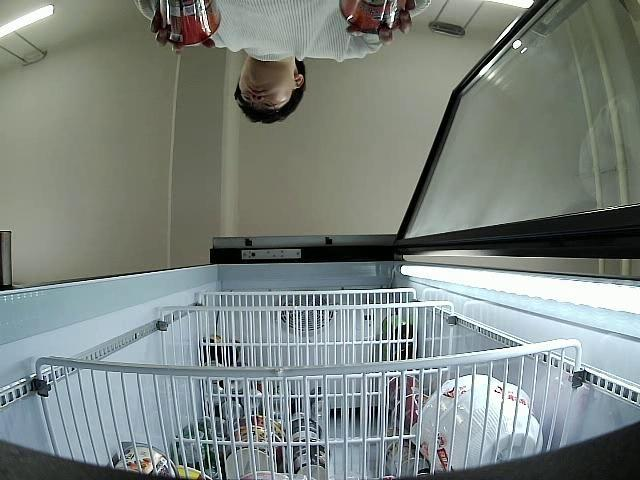02_shinRamen_S: (154, 0, 222, 46), (339, 0, 408, 36)
